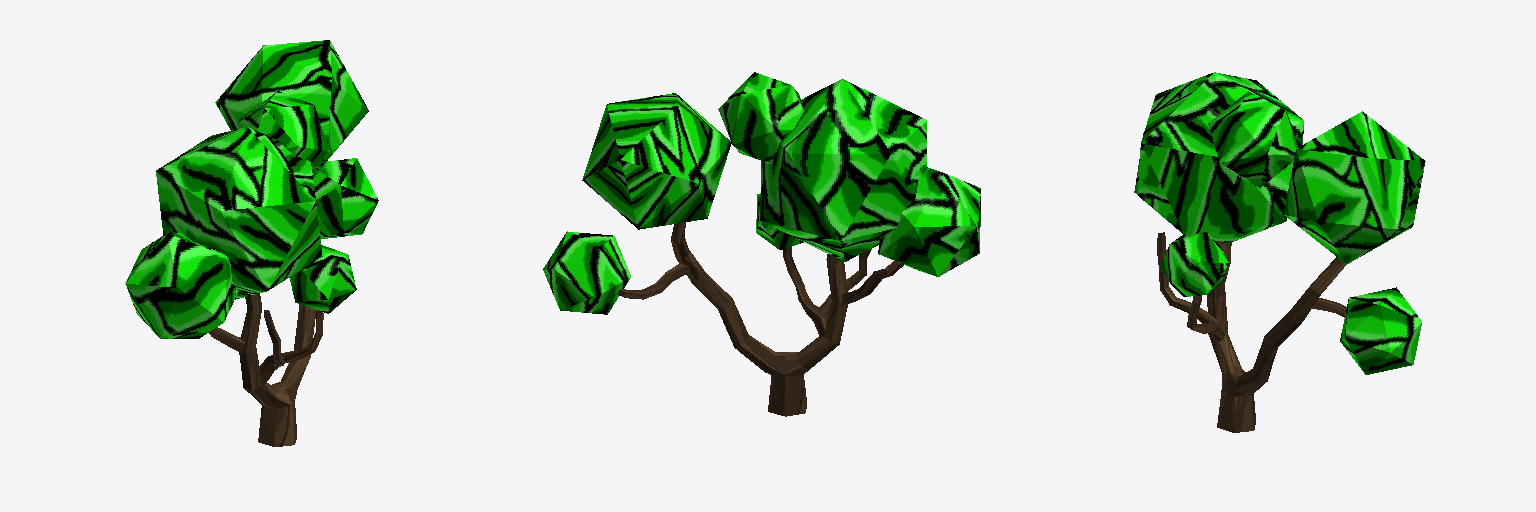
3 renders of one model, left to right at view 1: azimuth 30°, elevation 25°; view 2: azimuth 150°, elevation 25°; view 3: azimuth 270°, elevation 25°, orthographic.
Parts seen in each view (by area): view 1: Default; view 2: Default; view 3: Default.
Part boxes in pixels (left/top/right/bottom): Default: left=125, top=40, right=378, bottom=446; Default: left=543, top=72, right=980, bottom=416; Default: left=1134, top=72, right=1425, bottom=432.
Bounding box in the file's own units: 150 × 143 × 112.
2 materials, 2 textured.